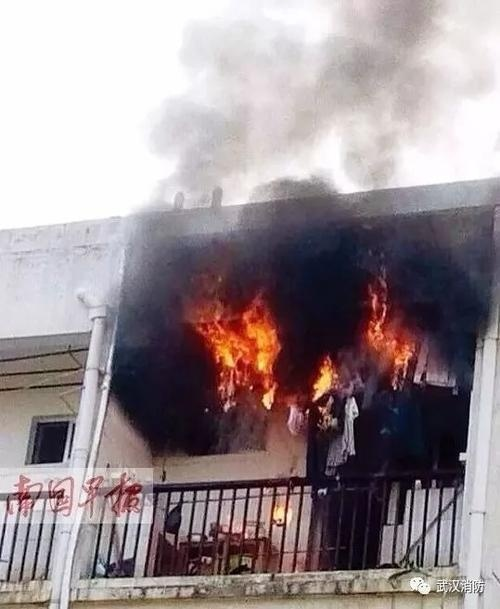fire: (187, 276, 341, 412), (363, 276, 418, 387), (268, 498, 296, 525)
